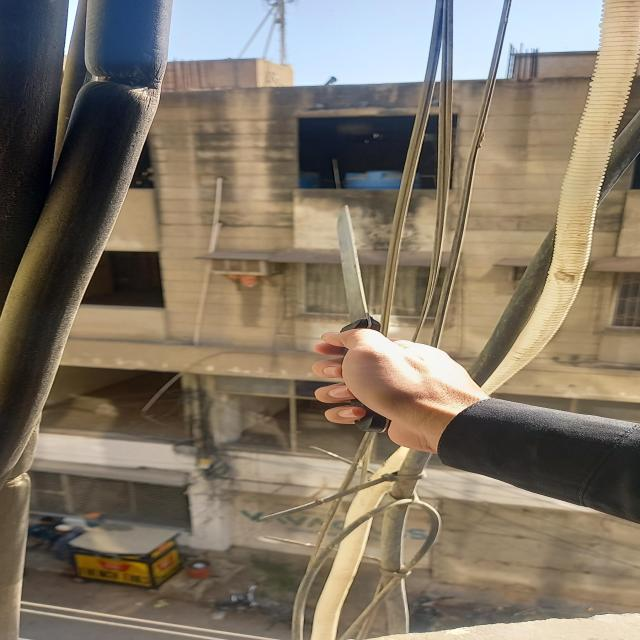Knife: (333, 206, 391, 435)
Person: (306, 330, 640, 522)
